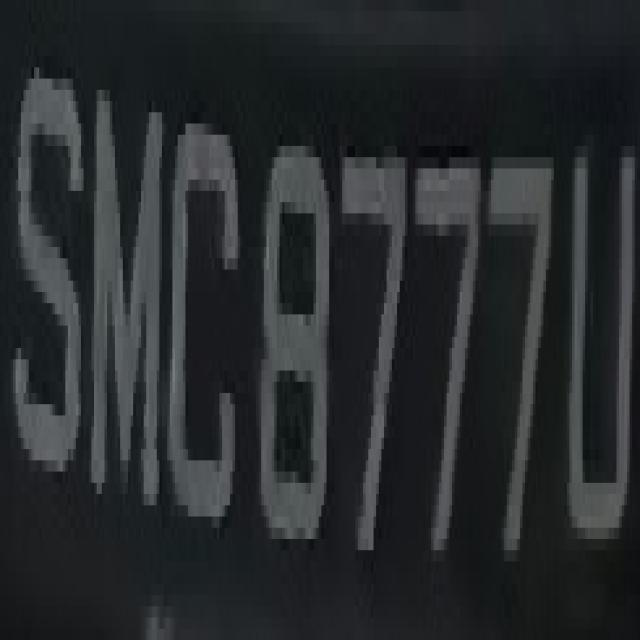7: (483, 101, 559, 640), (413, 124, 486, 606), (334, 101, 408, 573)
8: (251, 113, 334, 606)
C: (167, 112, 246, 573)
M: (81, 101, 162, 561)
S: (10, 56, 81, 505)
U: (562, 123, 638, 572)
